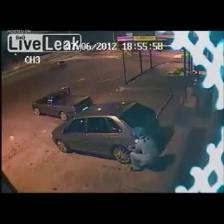person: (129, 128, 158, 171)
